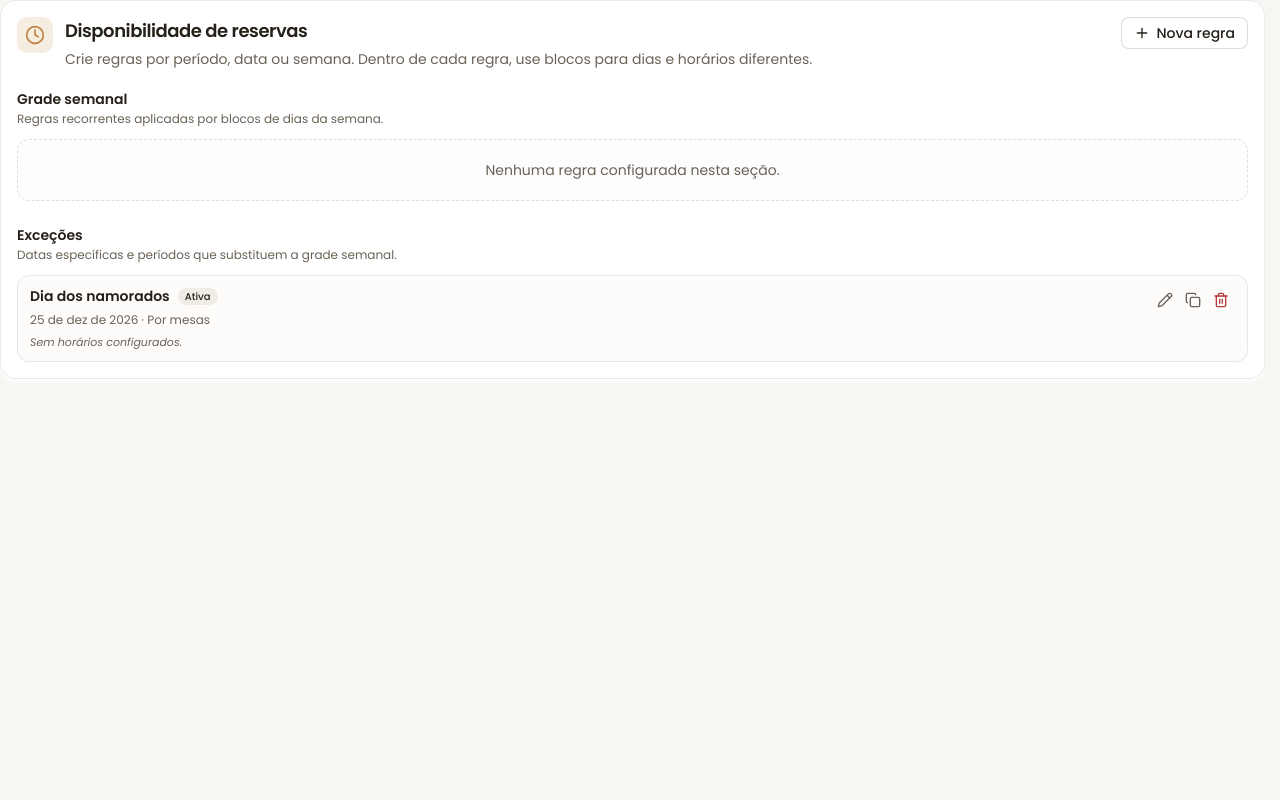
Scenario: ReservationScheduleRulesCard › oferece exclusao definitiva apenas quando a regra nunca gerou reserva
What coordinates should you click on to do the following:
click the button named "Arquivar Dia dos namorados"
I would click on:
 (1221, 300)
Its box is 1207,286 -> 1235,314.
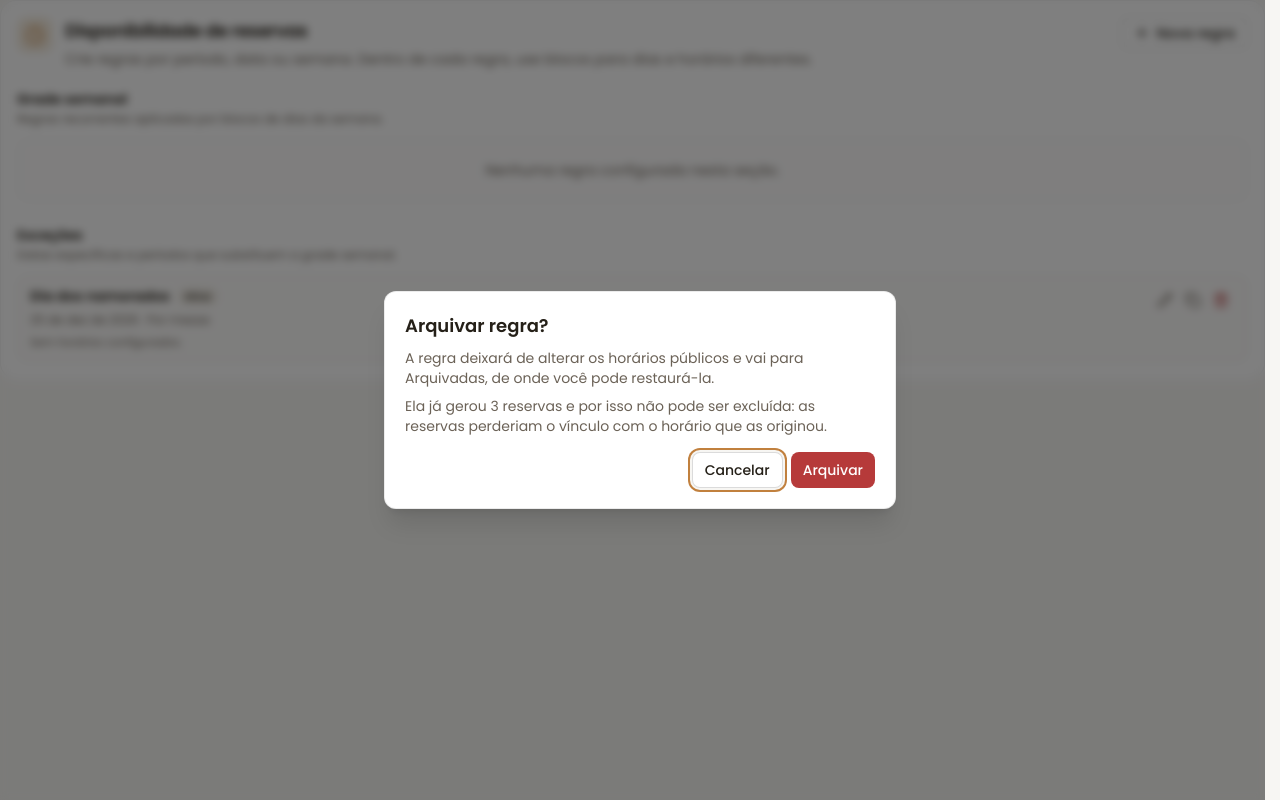
Check: the heading "Arquivar regra?" is shown, box 405,313 -> 549,338
Check: the text "já gerou 3 reservas" is shown, box 405,396 -> 827,436
